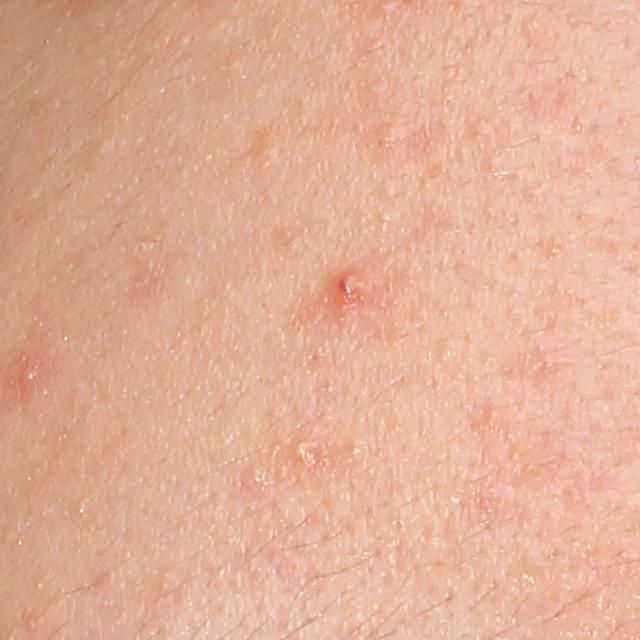comedo: (255, 130, 284, 168), (371, 124, 397, 152), (280, 233, 308, 258), (520, 13, 545, 40), (340, 438, 364, 462), (378, 178, 400, 203), (91, 134, 115, 156), (72, 497, 89, 517), (547, 242, 561, 256)
papule: (21, 363, 42, 388)
